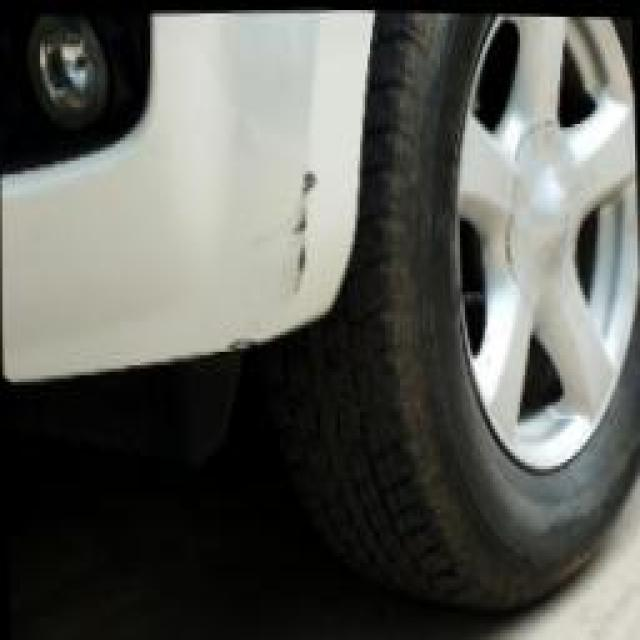Bumper: (205, 141, 364, 379)
